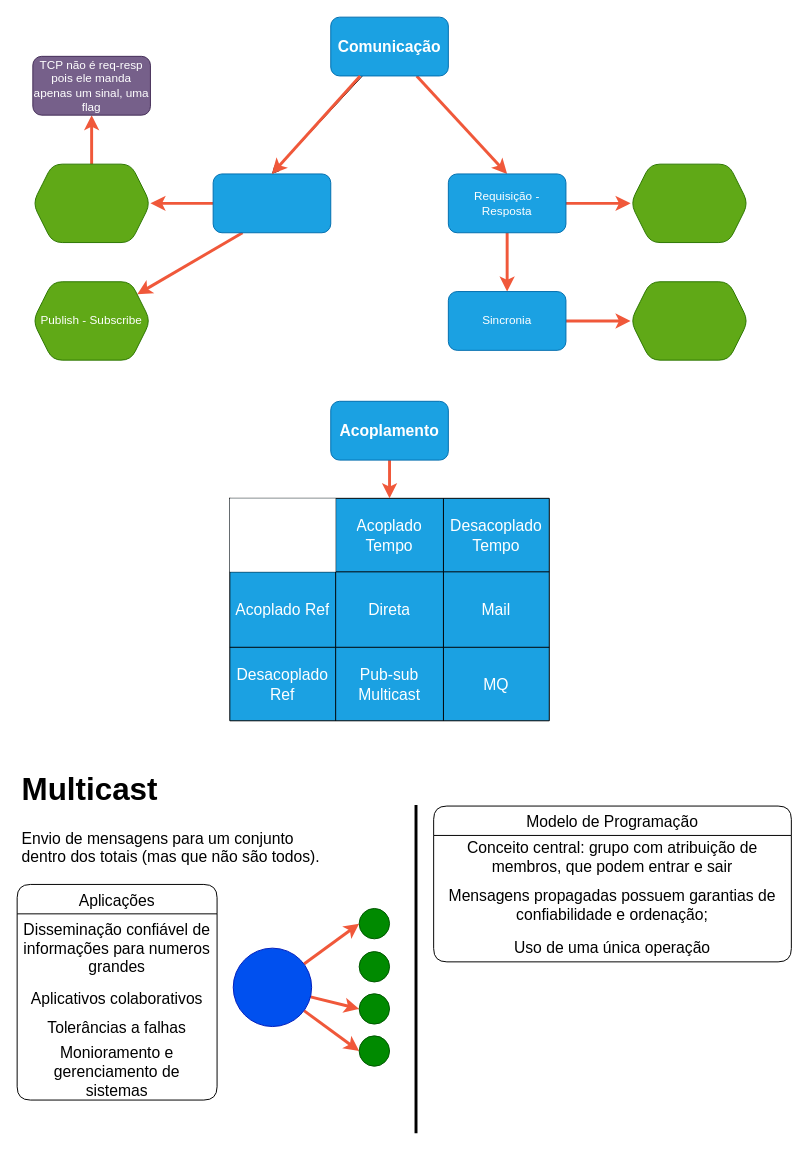
Image size: 809x1152. Some labels were removed from this diagram. Here are the shapes that lost their labels. From the top down, the centre of each, then its label:
At [91,203]: "TCP e UDP (baixo nível)".
At [271,203]: "Passagem de Mensagem".
At [689,203]: "Alto nível Comunicação Direta".
At [689,320]: "Um espera o outro terminar o processamento".
